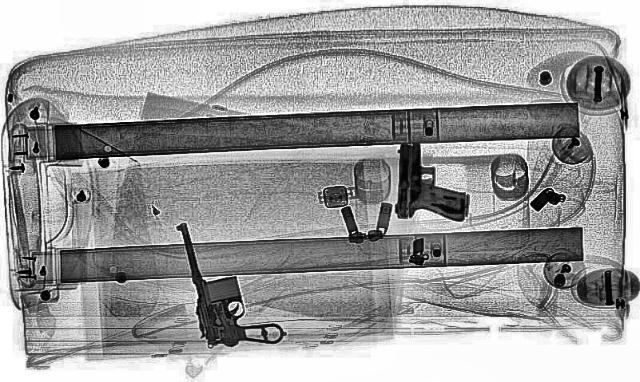Gun: (172, 216, 288, 350), (392, 141, 472, 221)
